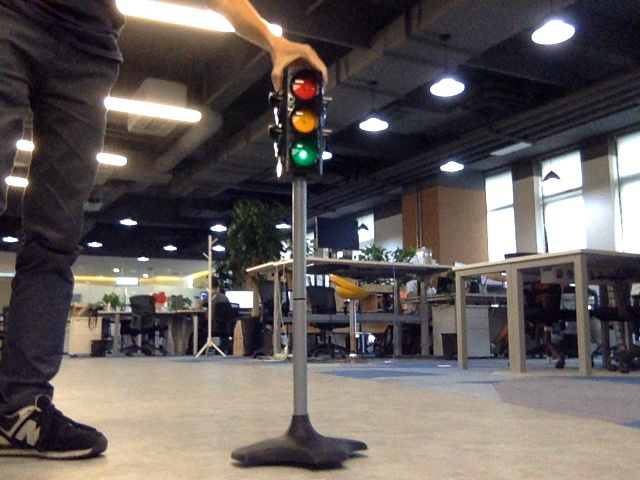green: (287, 76, 317, 171)
